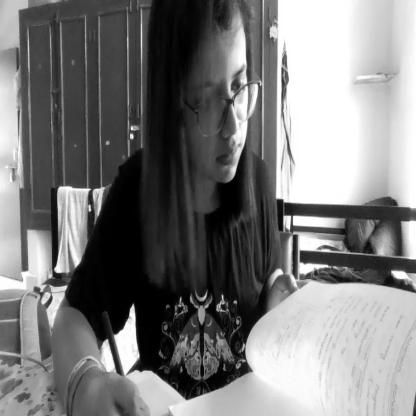Distracted: (156, 0, 252, 196)
